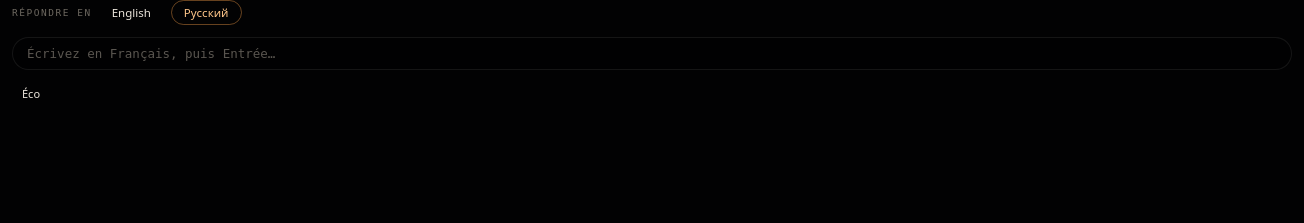
Test: reply in the teammates’ language › in the pop-up, says each typed reply when "Dire mes réponses écrites" is on
The width and height of the screenshot is (1304, 223).
Type "deux en B" into the field named "Message" at [652, 54], box [12, 37, 1292, 70]
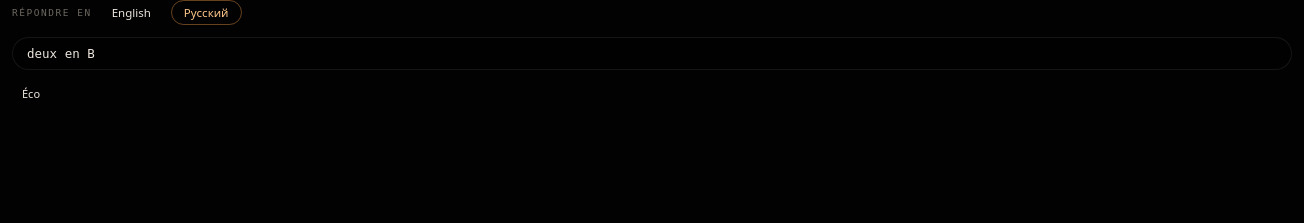
Press Enter in the field named "Message", box [12, 37, 1292, 70]
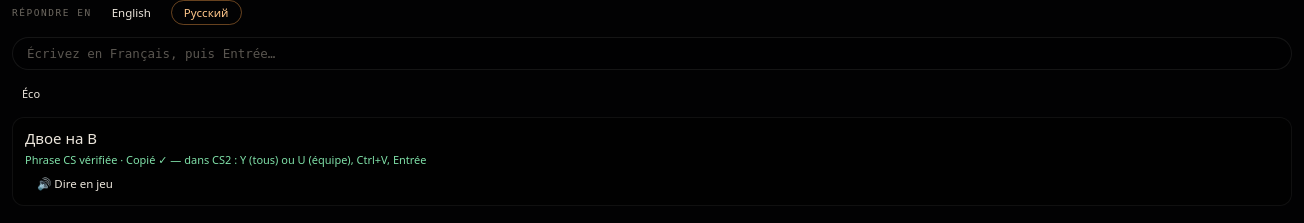
Expected: the text with test id "reply-out" reads "Двое на B", [25, 128, 97, 148]
